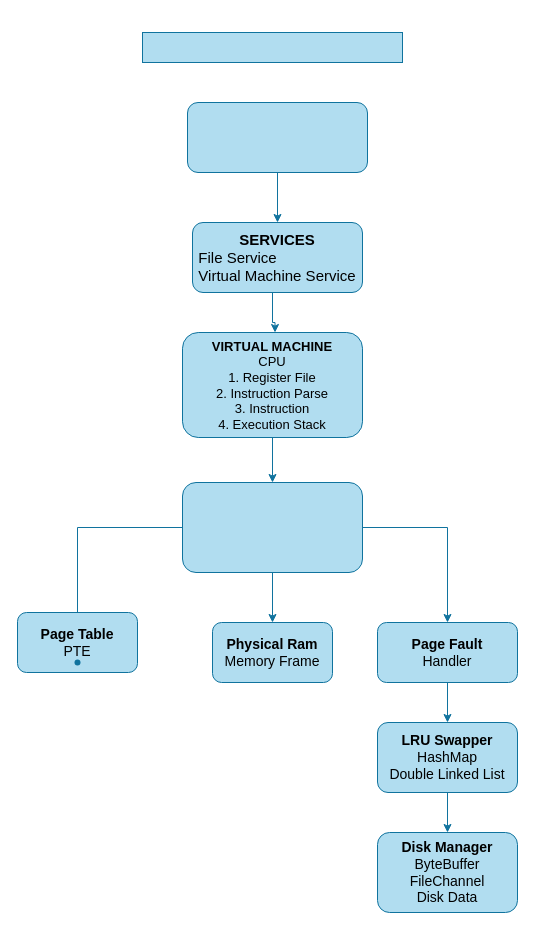
Some shapes in this 535 by 930 pixel diagram are drawn without their labels. Each missing label, with the centre of its shape:
"MMU getPhysicalAddress() read() wirte()" goes at (272,527).
"REST API FileController VM Controller" goes at (277,137).
"System Design (LLD)" goes at (272,47).
